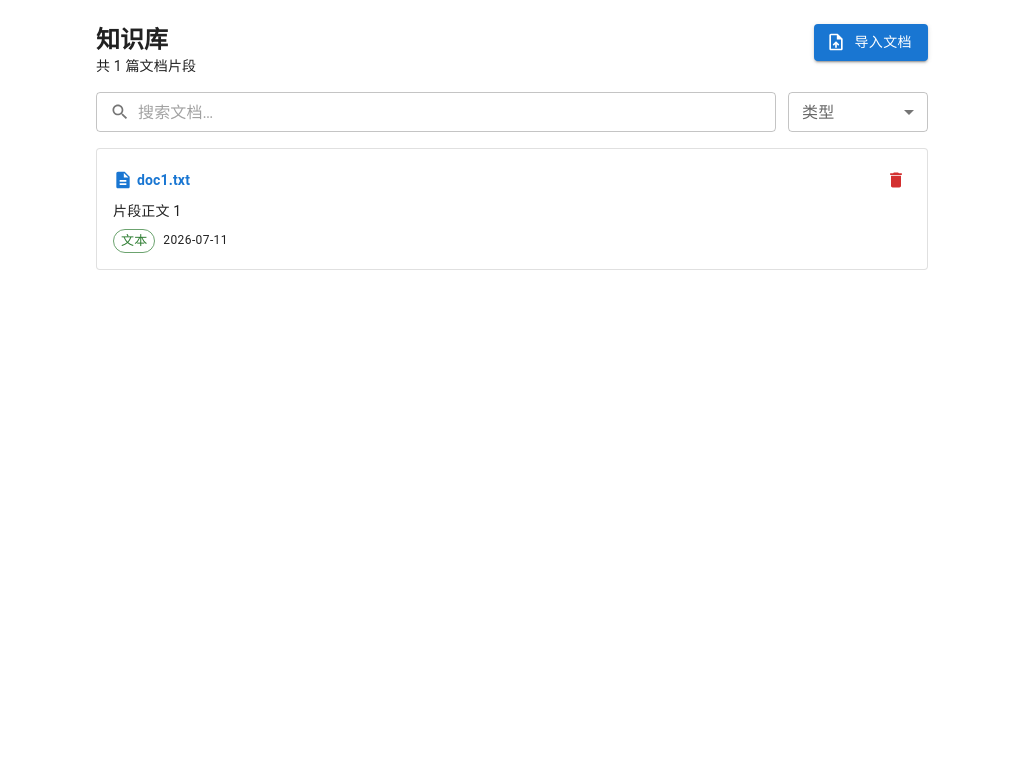
Scenario: KnowledgeView › 点击卡片打开片段详情抽屉（不跳转页面）
Click the text "片段正文 1": (147, 211) [113, 203, 181, 219]
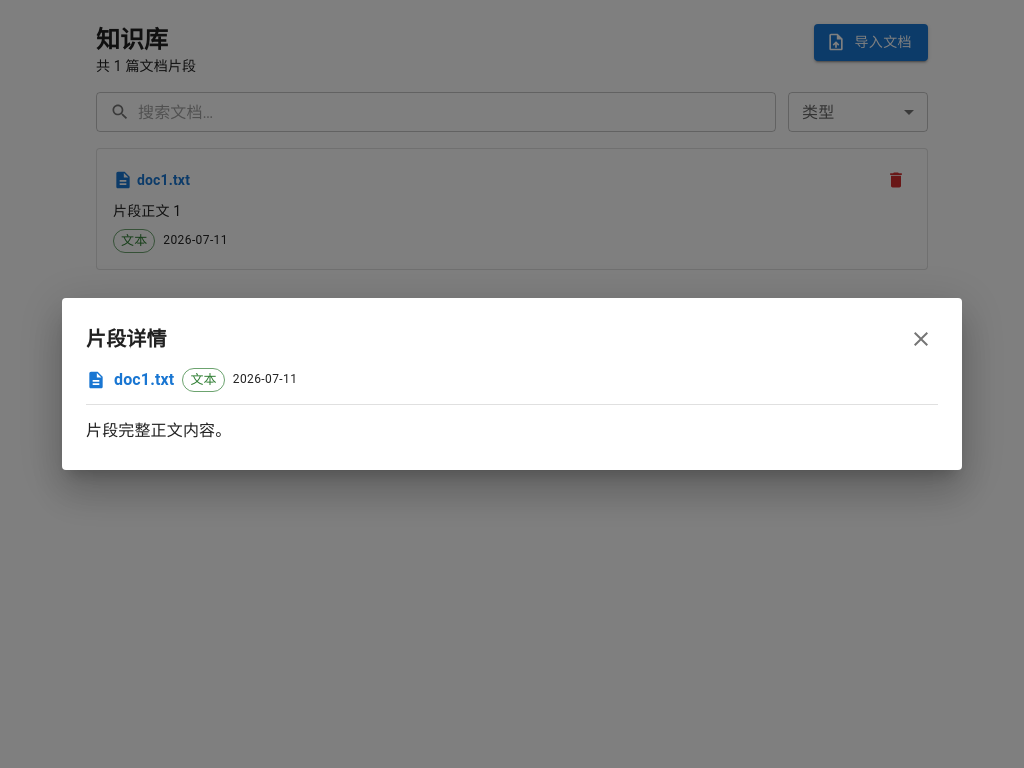
Expected: the heading "片段详情" is shown, [86, 323, 167, 355]
Expected: the text "片段完整正文内容。" is shown, [86, 421, 231, 440]
